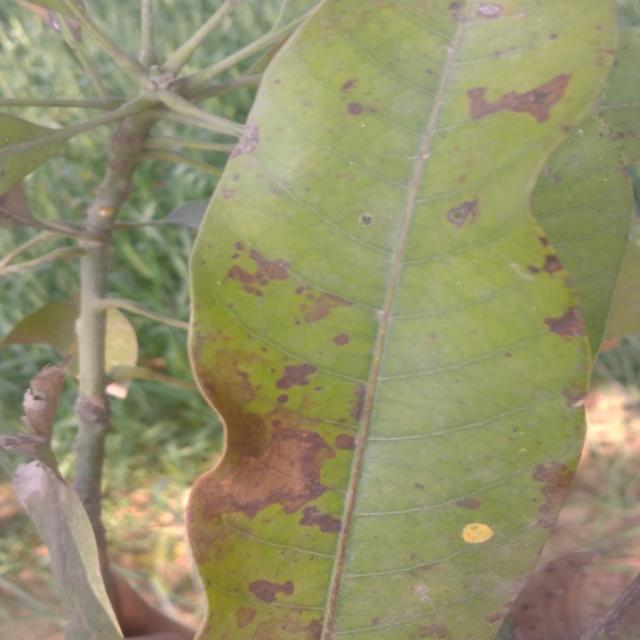Anthracnose: (201, 367, 340, 533), (215, 243, 304, 295), (459, 89, 562, 125), (244, 573, 299, 611), (236, 130, 264, 159), (478, 4, 508, 18)
